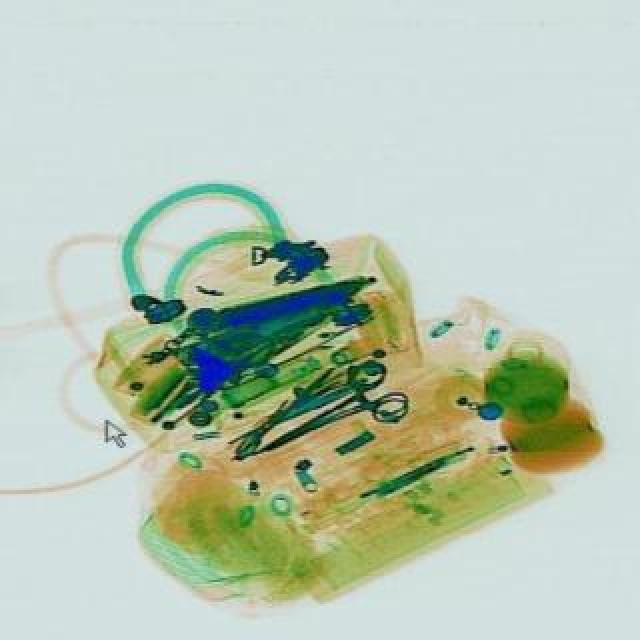pliers: (236, 352, 412, 482)
